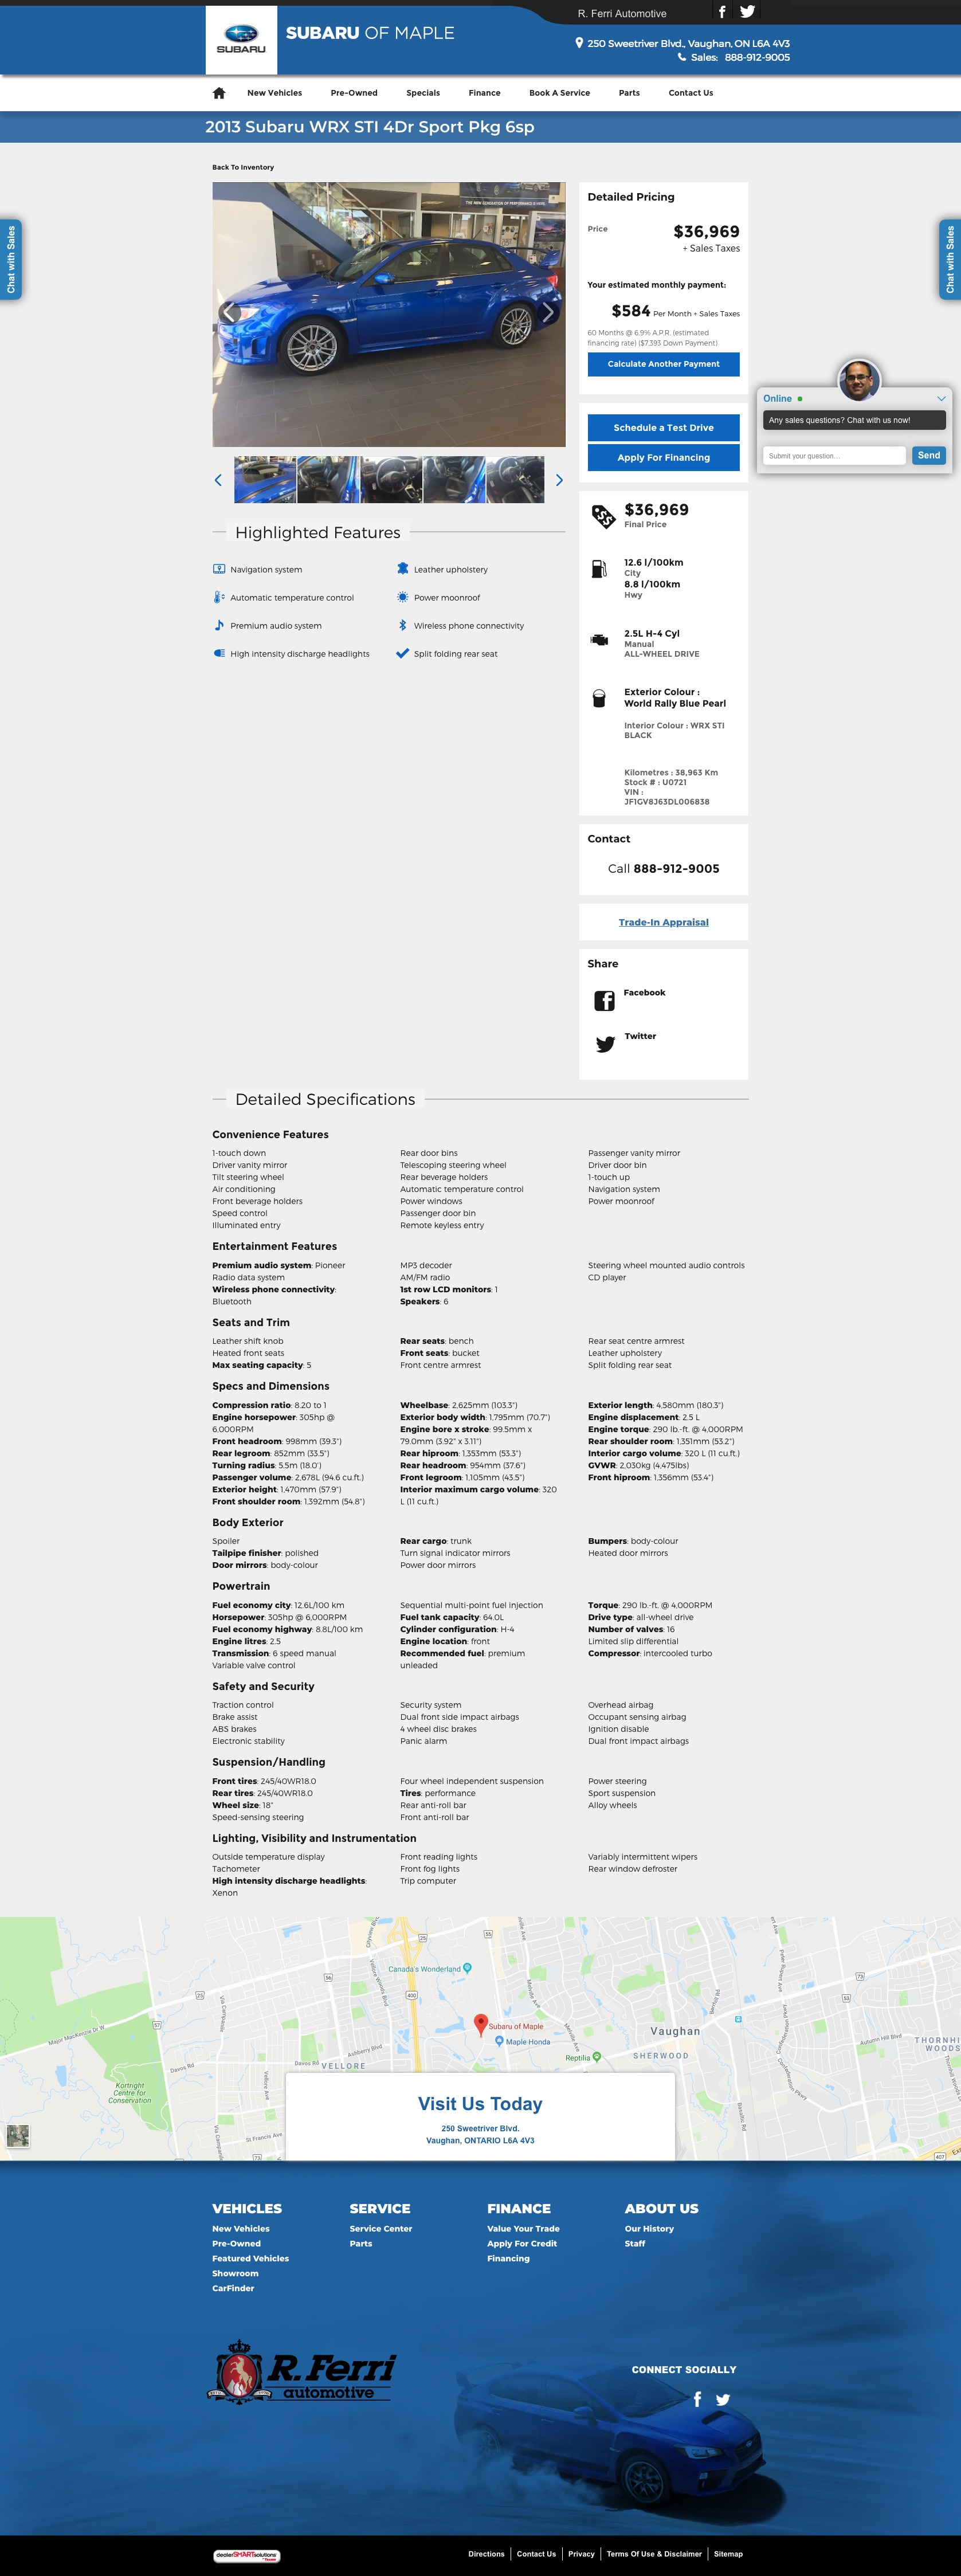car: (557, 473, 563, 488)
